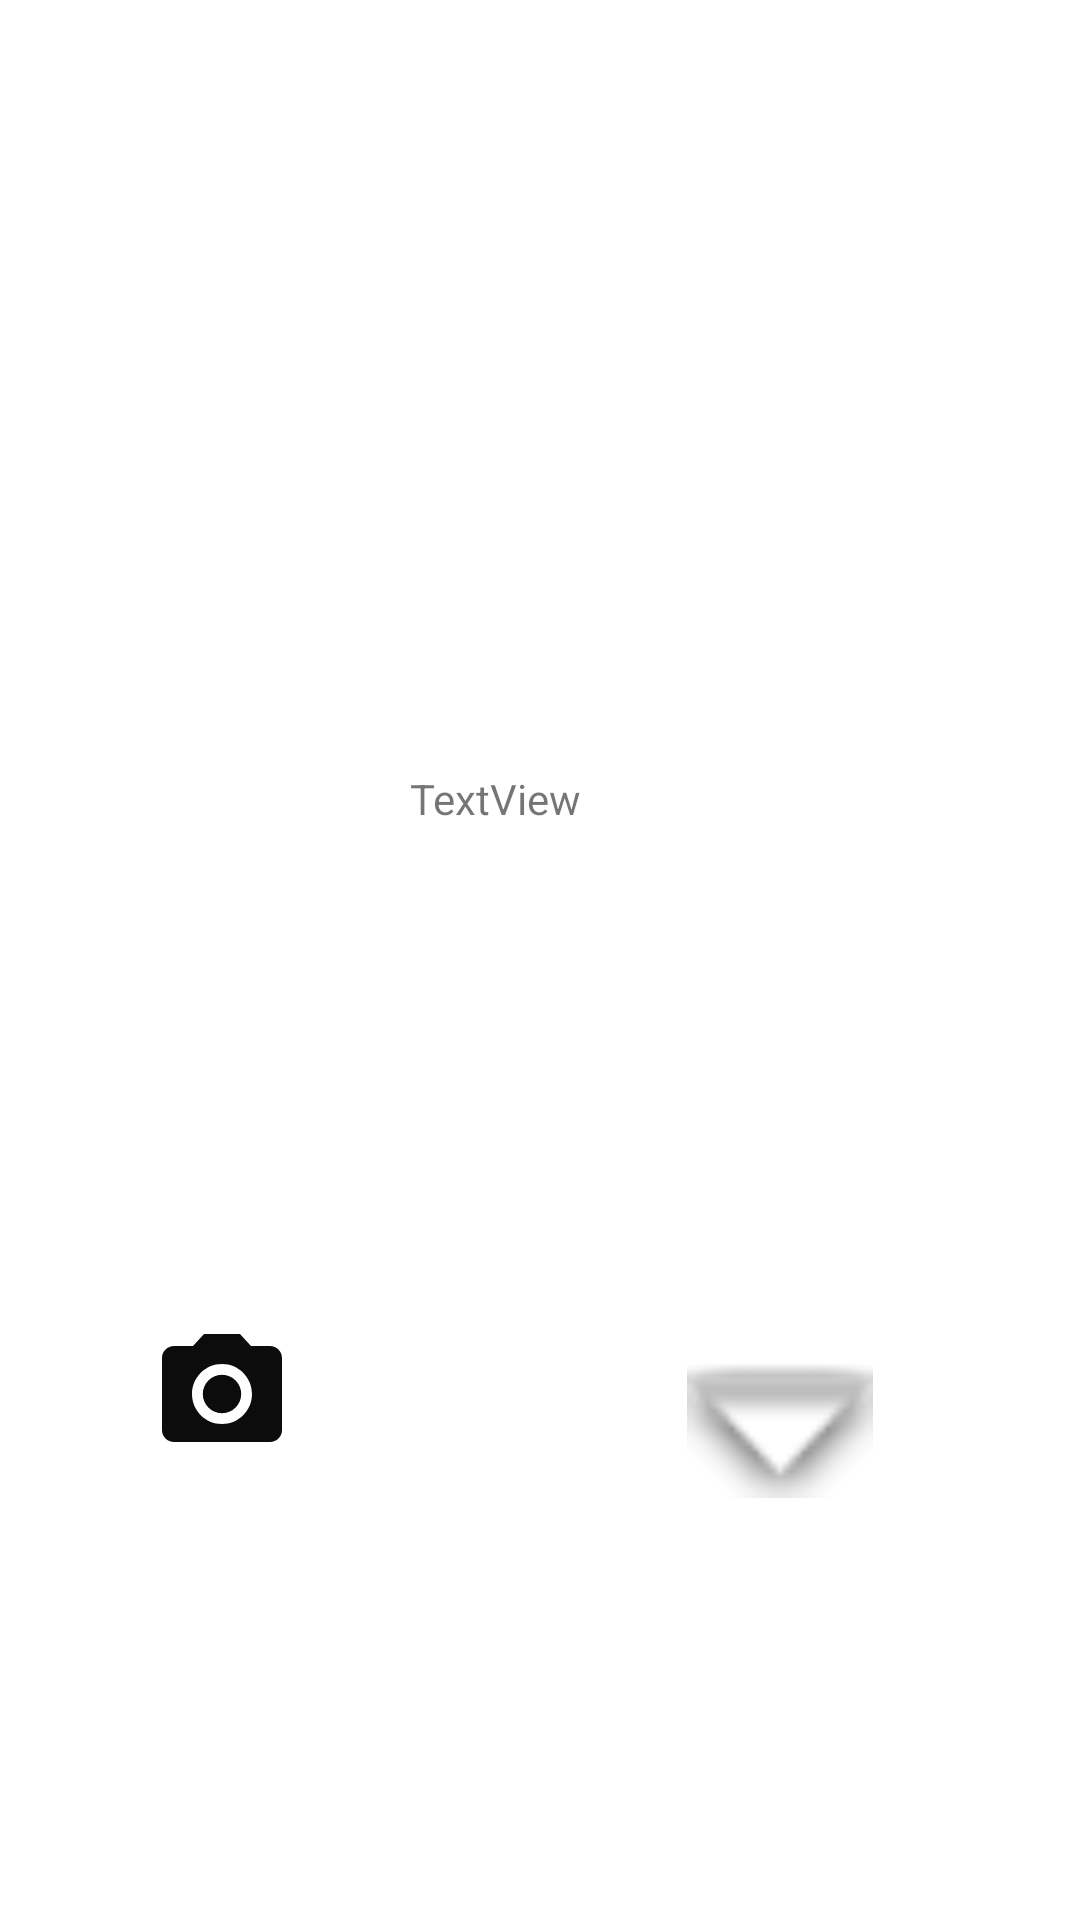

Named icons in this screenshot (1080*1920) and their bounding boxes, region(x1, y1, x2, y2):
arrow down float: region(687, 1368, 873, 1494)
camera: region(162, 1334, 282, 1442)
